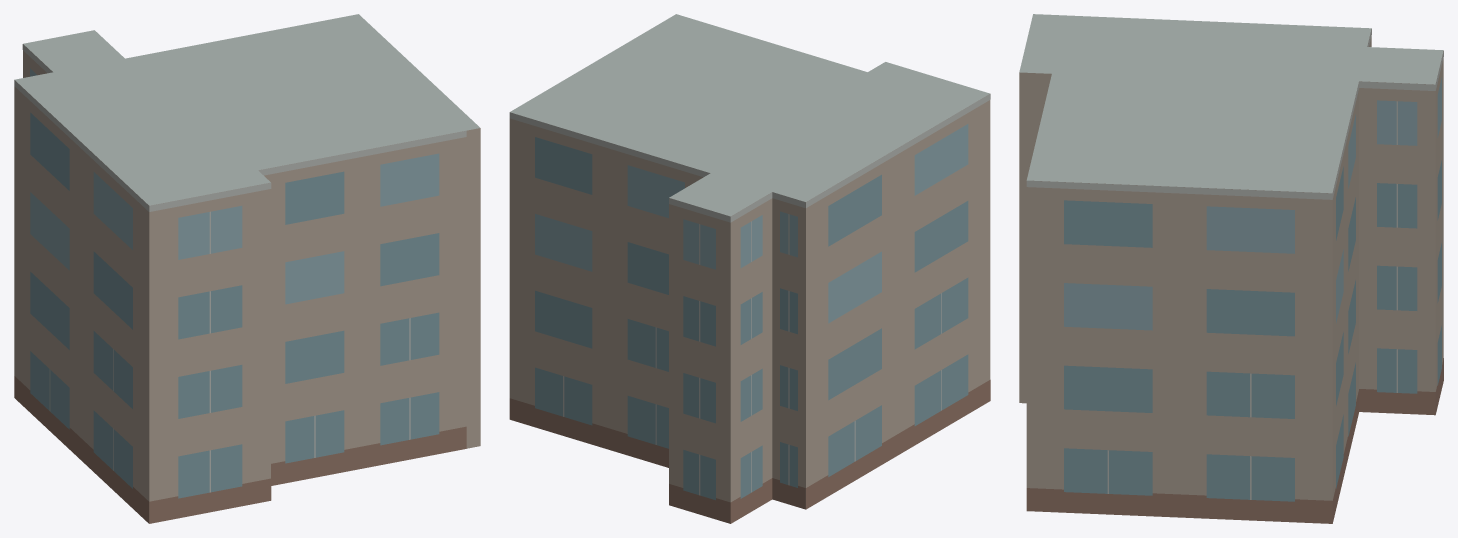
The model's file is survey-upis-32658358.glb.
3 renders of one model, left to right at view 1: azimuth 30°, elevation 25°; view 2: azimuth 150°, elevation 25°; view 3: azimuth 270°, elevation 25°, orthographic. The views are drawn at different scales.
Visible parts, largest first — view 1: survey-upis-32658358.tmp; view 2: survey-upis-32658358.tmp; view 3: survey-upis-32658358.tmp.
Part boxes in pixels (left/top/right/bottom): survey-upis-32658358.tmp: left=14, top=14, right=480, bottom=523; survey-upis-32658358.tmp: left=509, top=14, right=990, bottom=523; survey-upis-32658358.tmp: left=1019, top=14, right=1443, bottom=523.
Size of the model in its own units: 14.2 by 12.2 by 14.21.
